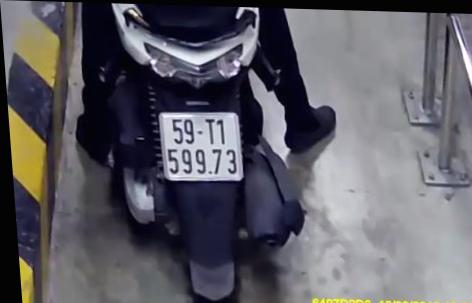License_Plate: (158, 106, 250, 196)
